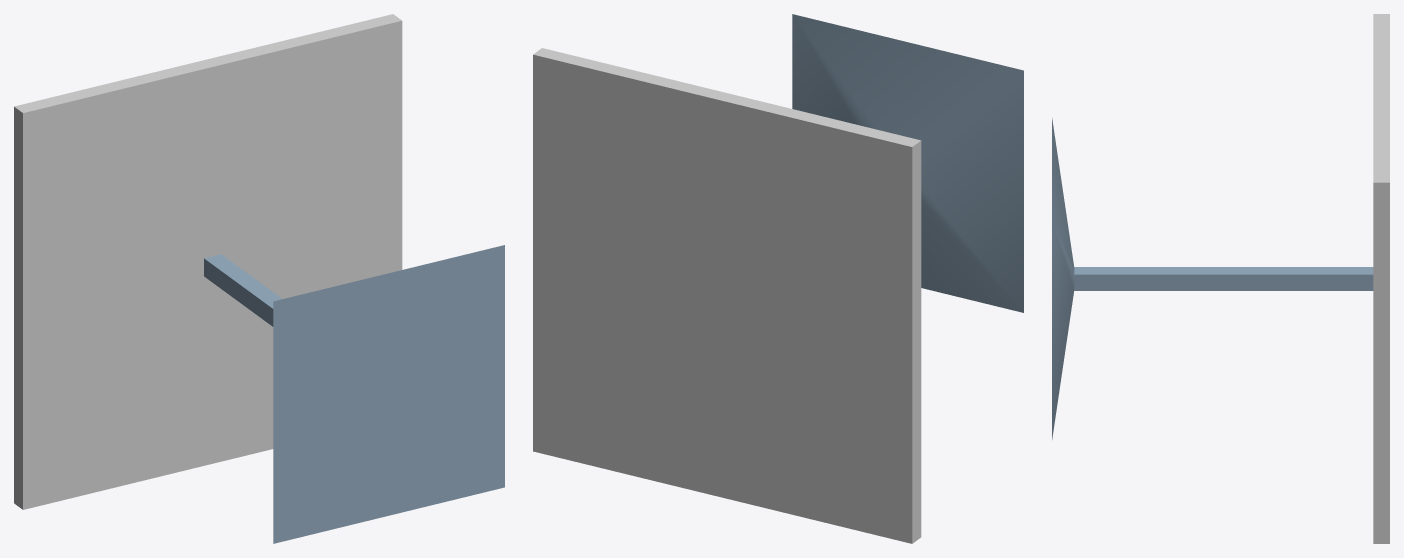
File: cafe_table.glb
3 renders of one model, left to right at view 1: azimuth 30°, elevation 25°; view 2: azimuth 150°, elevation 25°; view 3: azimuth 270°, elevation 25°, orthographic. The views are drawn at different scales.
Visible parts, largest first — view 1: ID30, SketchUp, Top_Square; view 2: ID22, SketchUp, Top_Square; view 3: SketchUp, Top_Square.
Boxes of the visible parts, x1,y1,x2,y2 form: ID30: [23, 21, 402, 509]; SketchUp: [204, 245, 504, 543]; Top_Square: [14, 14, 401, 509]; ID22: [533, 54, 912, 543]; SketchUp: [792, 14, 1023, 312]; Top_Square: [533, 48, 921, 543]; SketchUp: [1052, 118, 1373, 439]; Top_Square: [1373, 14, 1389, 543].
Size of the model in its own units: 36 by 36 by 30.5.
